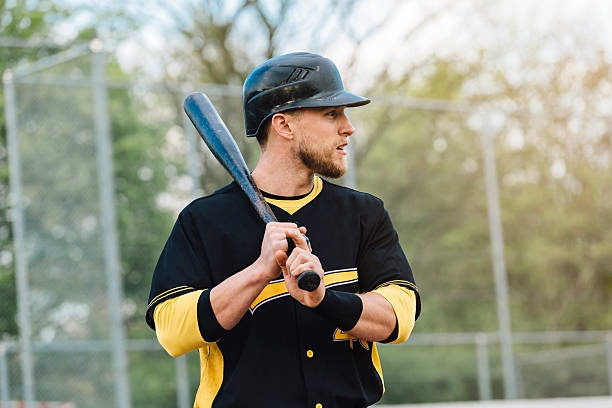bita: (176, 92, 311, 289)
